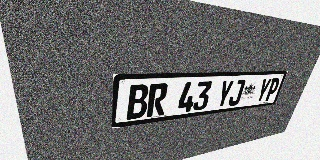3: (192, 81, 213, 111)
4: (177, 82, 198, 113)
B: (126, 84, 149, 120)
J: (227, 79, 246, 106)
P: (264, 78, 281, 101)
R: (146, 83, 169, 117)
Y: (215, 80, 234, 108), (254, 78, 272, 103)
